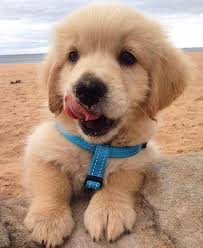Bulldog: (20, 8, 179, 236)
